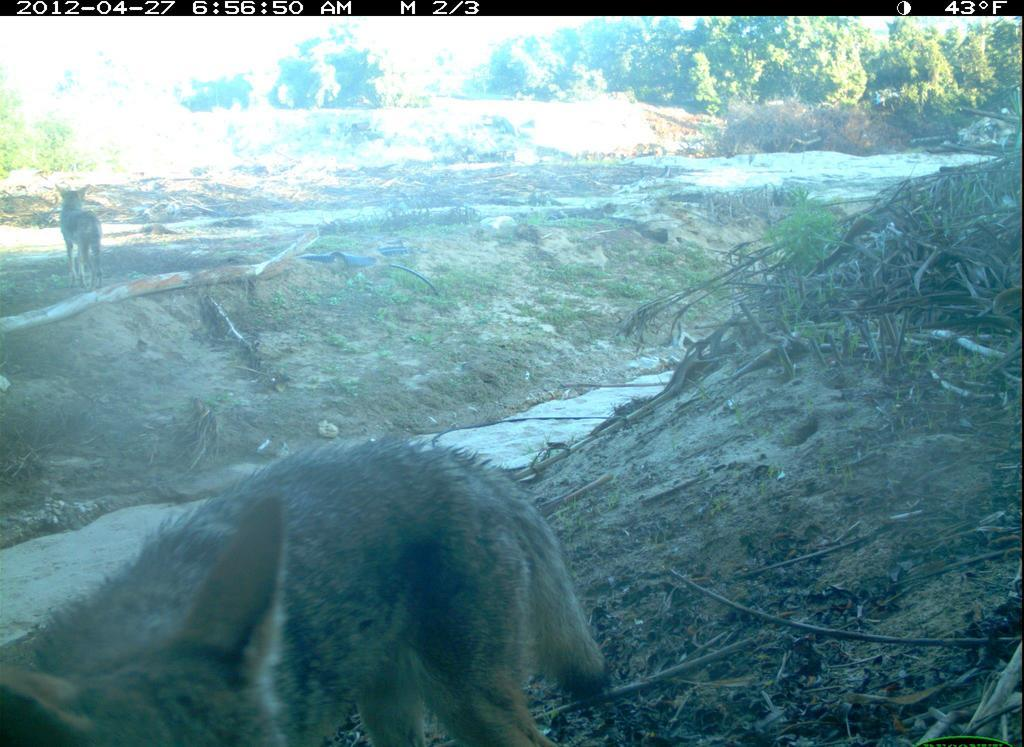coyote: (6, 422, 624, 747), (46, 176, 115, 304)
